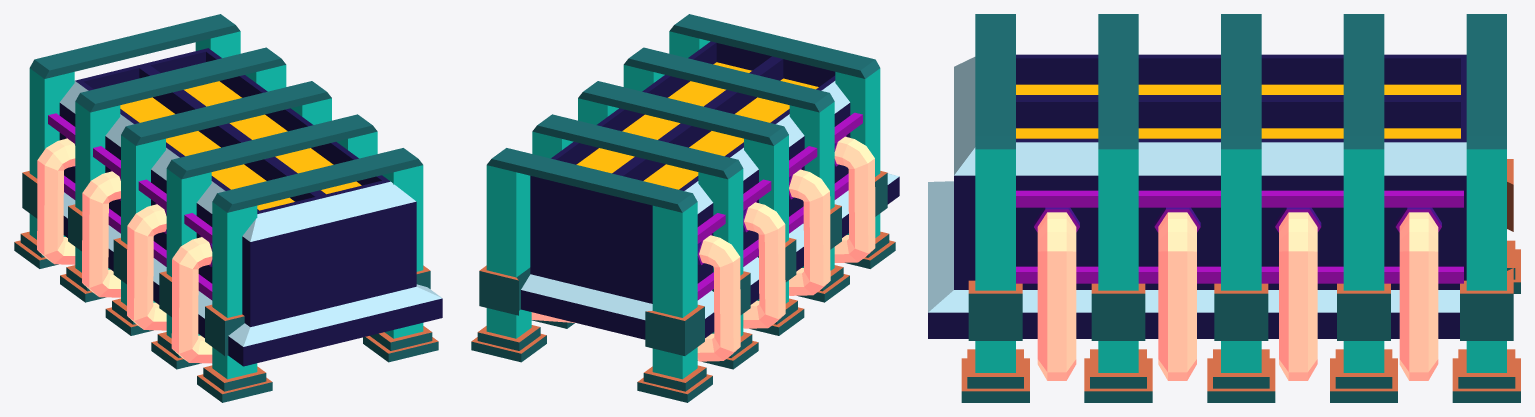
The model's file is SmelterLOD.fbx.
The picture shows the model from 3 angles, left to right: view 1: azimuth 30°, elevation 25°; view 2: azimuth 150°, elevation 25°; view 3: azimuth 270°, elevation 25°; orthographic projection. The views are drawn at different scales.
Parts seen in each view (by area): view 1: Smelter_LOD0; view 2: Smelter_LOD0; view 3: Smelter_LOD0.
Part boxes in pixels (x1,y1,x2,y2): Smelter_LOD0: (14,14,442,402); Smelter_LOD0: (471,14,899,402); Smelter_LOD0: (928,14,1520,402).
Size of what is drawn, in the model's own units: 577 by 440 by 920.
